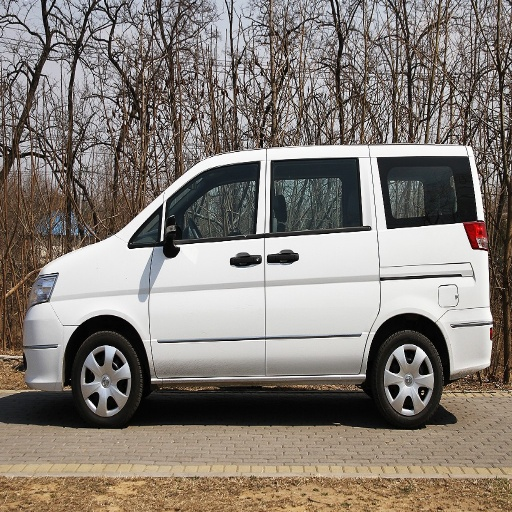back_left_door: (267, 158, 373, 372)
front_left_door: (149, 159, 268, 377)
trunk: (364, 267, 483, 371)
